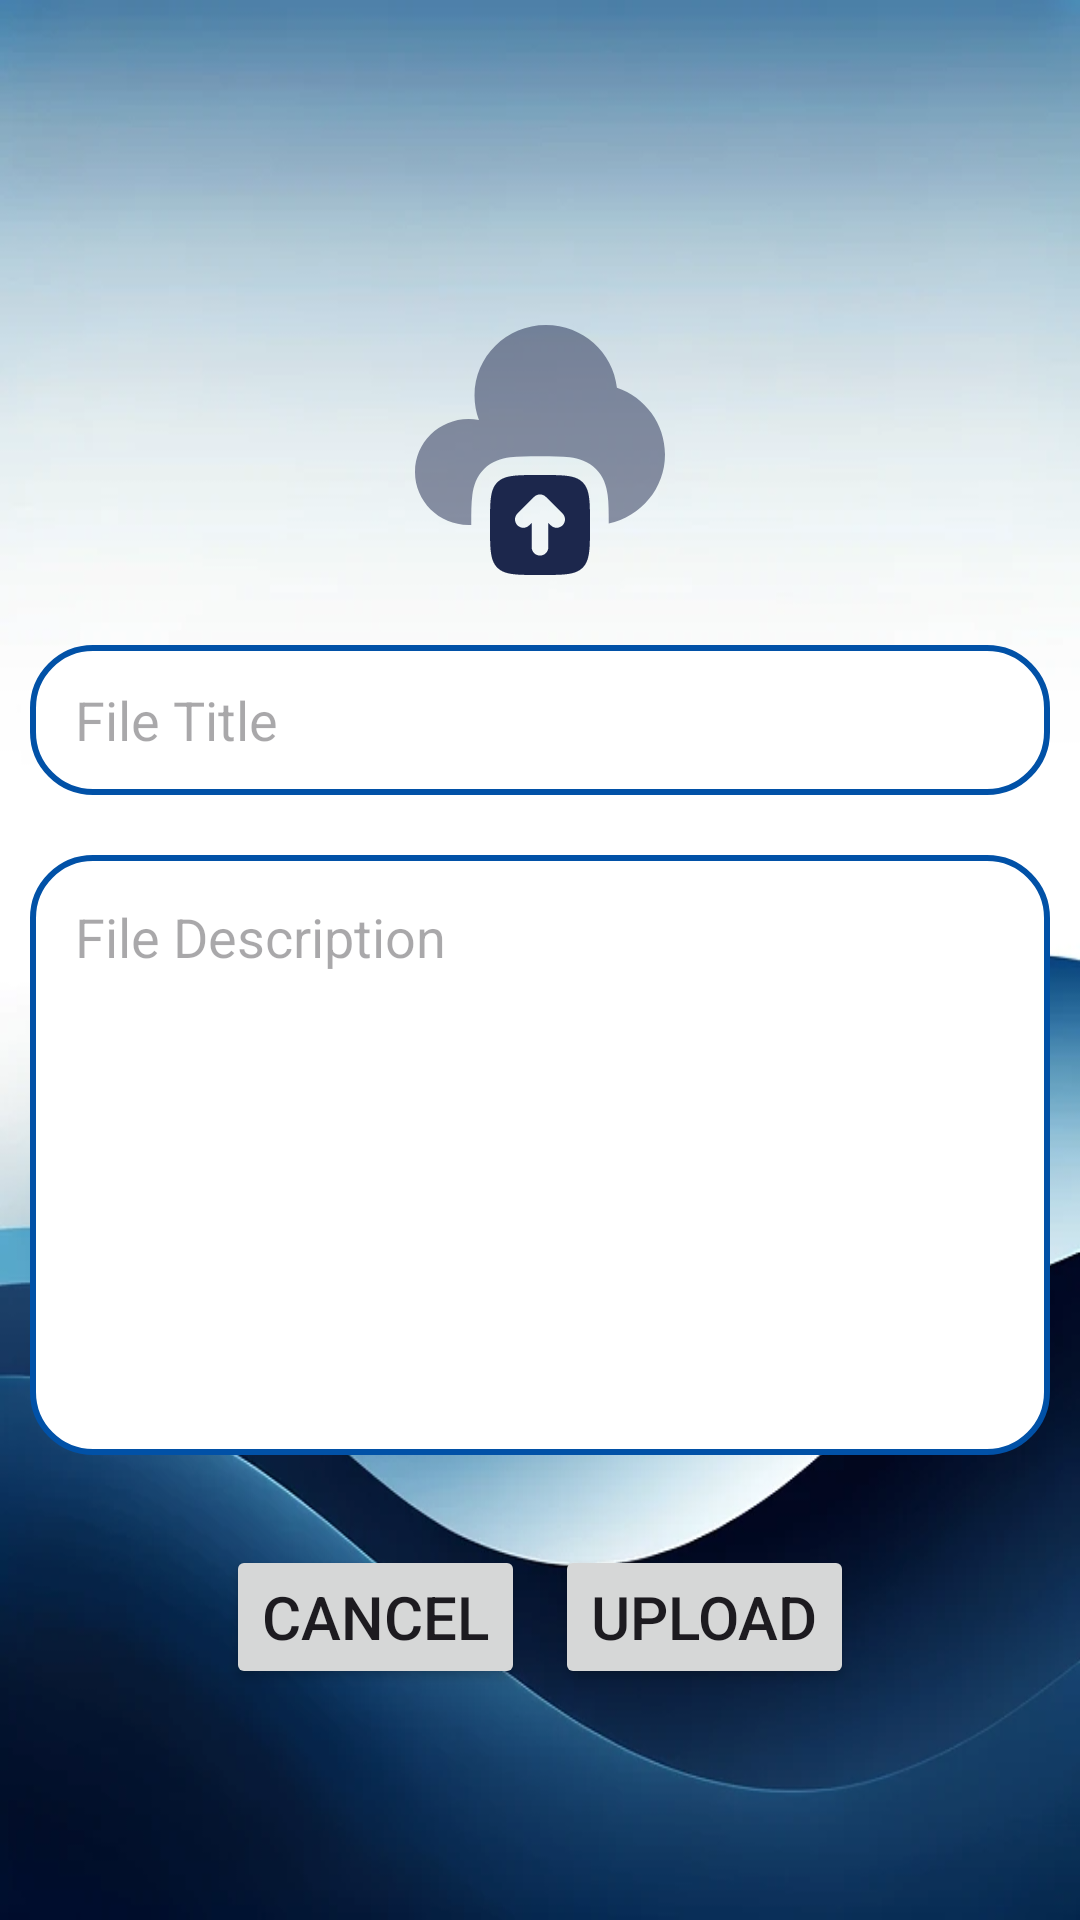

Screen size 1080 x 1920. Icon name, then its center in pixels as (x,y):
cloud upload: (540,450)
